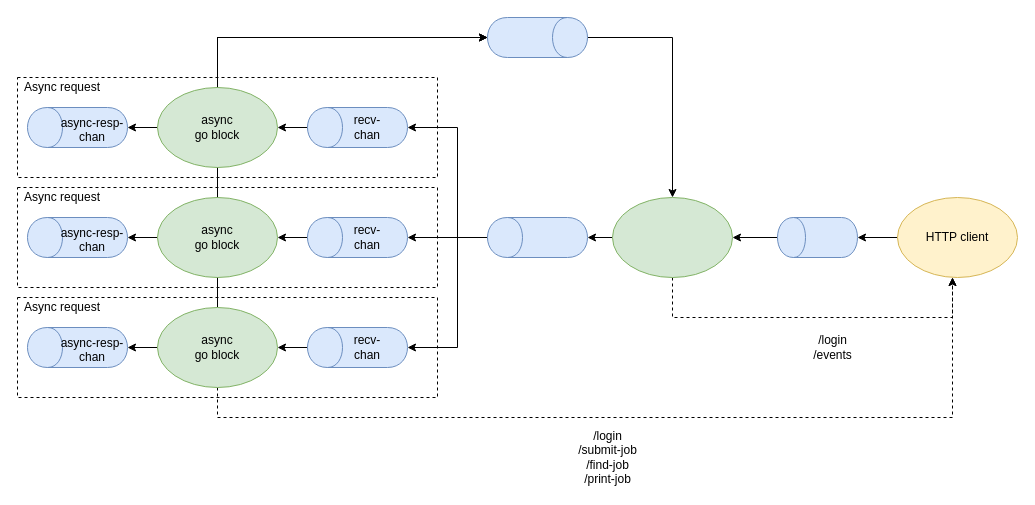
This 1035x505 diagram has some shape labels left out. Each missing label, with the centre of its shape:
"sse go block" goes at (x=672, y=237).
"sse-chan" goes at (x=817, y=237).
"sse-resp-chan" goes at (x=537, y=237).
"subs-chan" goes at (x=537, y=37).
